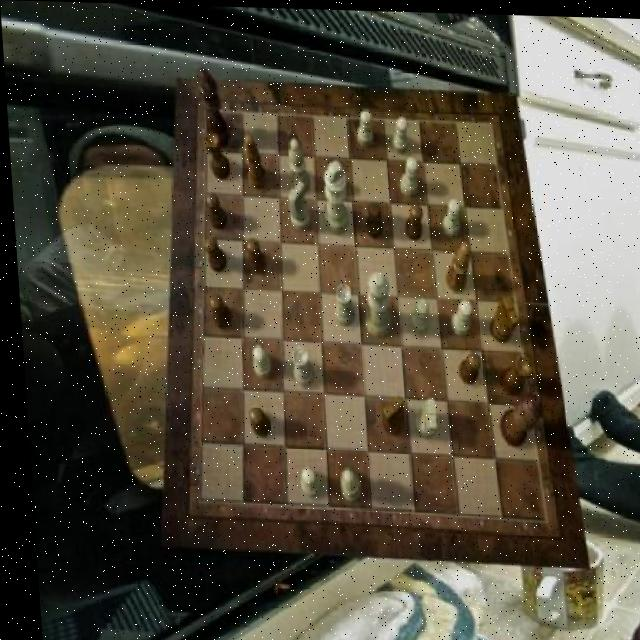bishop: (440, 239, 469, 291), (241, 133, 265, 190)
black-bishop: (195, 66, 227, 148)
black-king: (484, 294, 517, 342), (374, 393, 399, 433)
black-knight: (200, 235, 225, 272), (203, 294, 228, 329), (452, 350, 478, 383), (202, 192, 224, 229), (400, 201, 421, 239), (241, 238, 263, 274), (243, 405, 266, 437), (360, 199, 379, 237)
black-pawn: (491, 389, 538, 446)
black-queen: (493, 354, 528, 394), (202, 131, 229, 179)
black-rook: (286, 137, 308, 192), (332, 466, 357, 501)
white-bishop: (317, 158, 347, 233)
white-king: (285, 180, 309, 230), (406, 396, 431, 437)
white-knight: (444, 296, 469, 333), (437, 196, 459, 235), (395, 155, 417, 194), (389, 114, 409, 152), (353, 107, 372, 145), (293, 466, 315, 498), (407, 295, 426, 332), (247, 345, 266, 378)
white-pawn: (358, 270, 388, 336)
white-queen: (286, 346, 311, 387), (329, 281, 352, 324)
